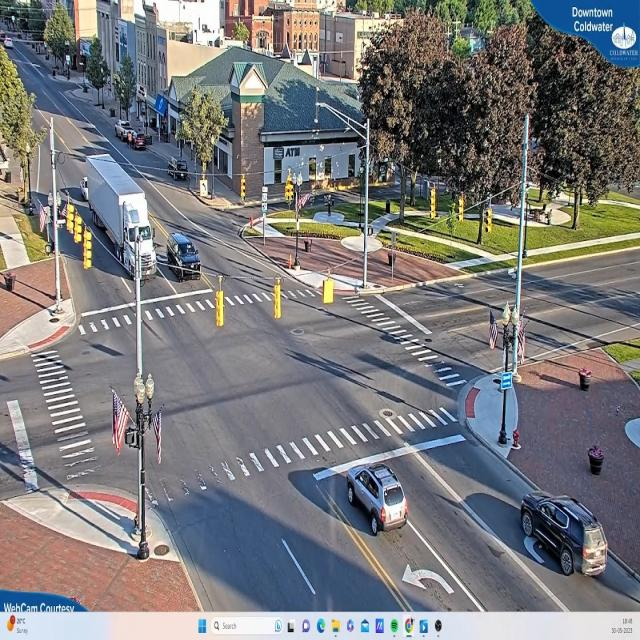car: (520, 492, 608, 579), (347, 465, 408, 537), (117, 122, 135, 143), (132, 135, 148, 150)
truck: (82, 148, 162, 290)
